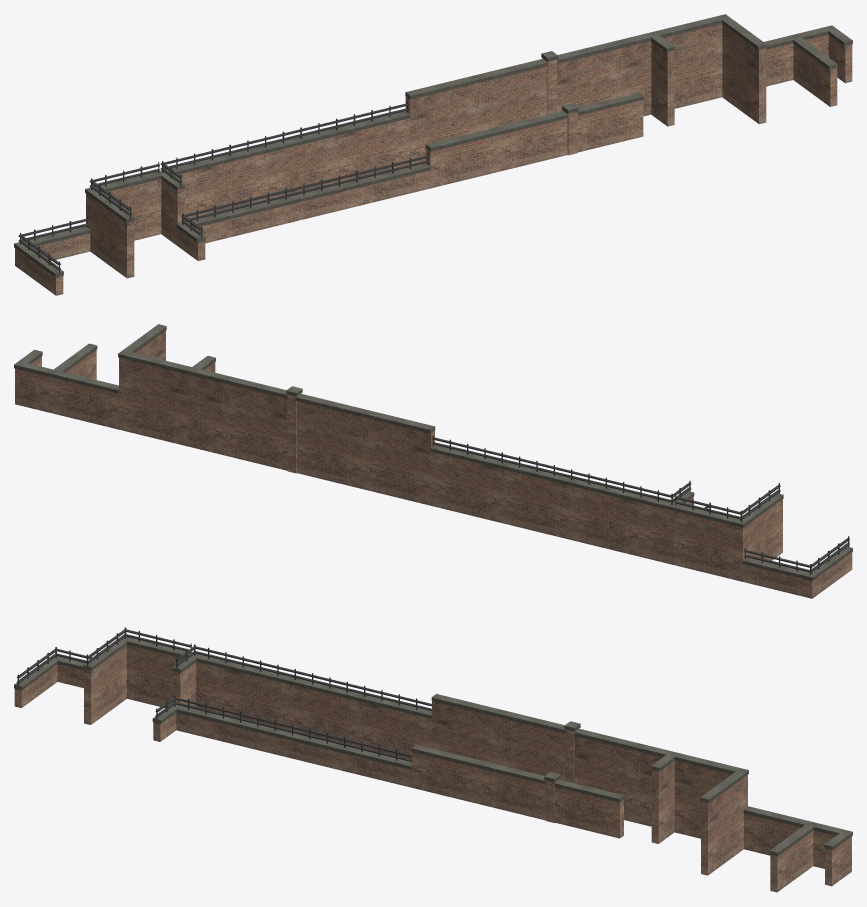
Rendered from urbroads_wallpieces.fbx.
3 renders of one model, top to bottom at view 1: azimuth 30°, elevation 25°; view 2: azimuth 150°, elevation 25°; view 3: azimuth 330°, elevation 25°, orthographic. The views are drawn at different scales.
Visible parts, largest first — view 1: UrbanWall.WallD, UrbanWall.WallB, UrbanWall.WallB.Corner, UrbanWall.HalfWallB, UrbanWall.WallD.Corner, UrbanWall.HalfWallD, UrbanWall.WallC, UrbanWall.WallA.Corner, UrbanWall.WallA, UrbanWall.HalfWallB.Corner, UrbanWall.HalfWallD.Corner, UrbanWall.HalfWallA (+6 smaller); view 2: UrbanWall.WallB, UrbanWall.WallD, UrbanWall.WallD.Corner, UrbanWall.WallB.Corner, UrbanWall.WallA, UrbanWall.WallC, UrbanWall.HalfWallB.Corner, UrbanWall.HalfWallD.Corner, UrbanWall.WallA.Corner, UrbanWall.WallC.Corner, UrbanWall.HalfWallA.Corner, UrbanWall.Pillar; view 3: UrbanWall.WallD, UrbanWall.WallB, UrbanWall.WallB.Corner, UrbanWall.WallD.Corner, UrbanWall.HalfWallB, UrbanWall.HalfWallD, UrbanWall.WallA, UrbanWall.HalfWallB.Corner, UrbanWall.WallC, UrbanWall.WallA.Corner, UrbanWall.HalfWallA, UrbanWall.WallC.Corner (+6 smaller).
Boxes of the visible parts, box(x1,y1,x2,y2) form: UrbanWall.WallD: box(193, 119, 339, 215); UrbanWall.WallB: box(405, 59, 547, 163); UrbanWall.WallB.Corner: box(654, 14, 766, 124); UrbanWall.HalfWallB: box(425, 111, 567, 188); UrbanWall.WallD.Corner: box(85, 162, 161, 278); UrbanWall.HalfWallD: box(213, 171, 359, 240); UrbanWall.WallC: box(335, 101, 410, 181); UrbanWall.WallA.Corner: box(619, 31, 675, 126); UrbanWall.WallA: box(557, 40, 623, 112); UrbanWall.HalfWallB.Corner: box(764, 34, 837, 106); UrbanWall.HalfWallD.Corner: box(14, 216, 90, 295); UrbanWall.HalfWallA: box(577, 92, 643, 152); UrbanWall.WallB: box(296, 394, 435, 505); UrbanWall.WallD: box(500, 452, 642, 556); UrbanWall.WallD.Corner: box(673, 483, 783, 581); UrbanWall.WallB.Corner: box(118, 324, 192, 446); UrbanWall.WallA: box(222, 376, 287, 470); UrbanWall.WallC: box(430, 435, 503, 522); UrbanWall.HalfWallB.Corner: box(49, 343, 118, 429); UrbanWall.HalfWallD.Corner: box(742, 536, 852, 598); UrbanWall.WallA.Corner: box(187, 356, 226, 454); UrbanWall.WallC.Corner: box(638, 481, 694, 564); UrbanWall.HalfWallA.Corner: box(14, 349, 53, 412); UrbanWall.Pillar: box(286, 386, 302, 473); UrbanWall.WallD: box(223, 652, 365, 746); UrbanWall.WallB: box(431, 694, 565, 780); UrbanWall.WallB.Corner: box(674, 753, 748, 875); UrbanWall.WallD.Corner: box(83, 627, 191, 724); UrbanWall.HalfWallB: box(411, 745, 545, 820); UrbanWall.HalfWallD: box(203, 703, 346, 770); UrbanWall.WallA: box(574, 729, 643, 823); UrbanWall.HalfWallB.Corner: box(743, 806, 817, 892); UrbanWall.WallC: box(362, 686, 431, 759); UrbanWall.WallA.Corner: box(639, 744, 678, 843); UrbanWall.HalfWallA: box(554, 779, 624, 838); UrbanWall.WallC.Corner: box(172, 644, 227, 713).
Bounding box in the file's own units: 2304 × 223 × 205.
